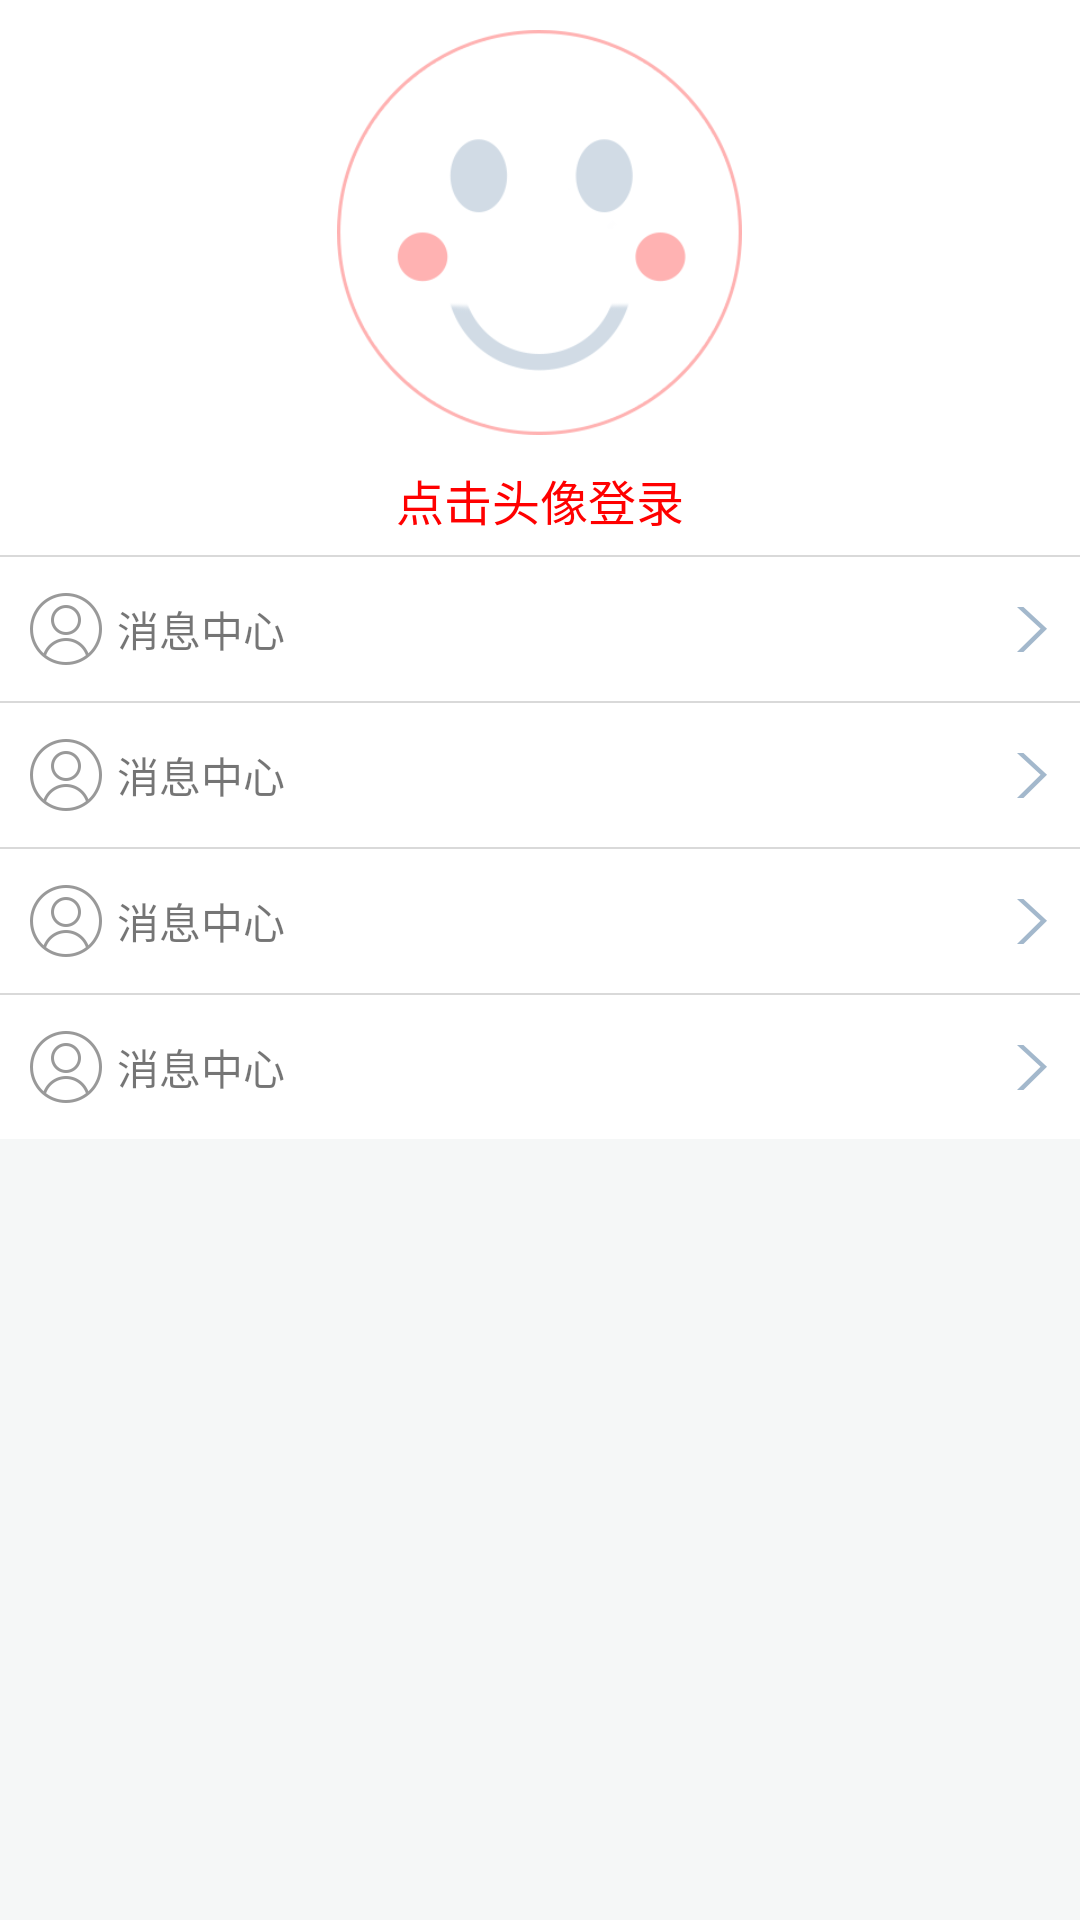

Icons on this 1080x1920 Android screen, each with its box as region(x1, y1, x2, y2):
eg arrow: region(1017, 607, 1047, 652), region(1017, 753, 1047, 798), region(1017, 899, 1047, 944), region(1017, 1045, 1047, 1090)
